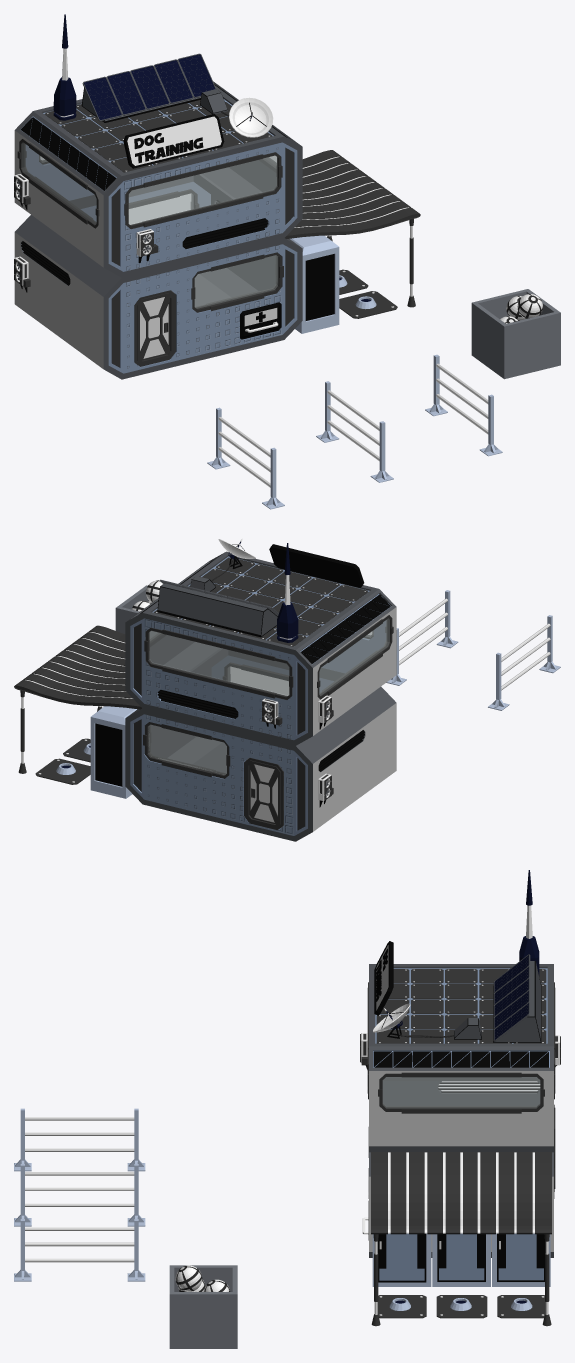
Rendered from Training_level_2.fbx.
3 views of the same model, one above another, from view 1: azimuth 30°, elevation 25°; view 2: azimuth 150°, elevation 25°; view 3: azimuth 270°, elevation 25° (orthographic). The views are drawn at different scales.
Parts seen in each view (by area): view 1: Training level 2.005, Training level 2.011, Training level 2.010, Training level 2.012, Training level 2.013; view 2: Training level 2.005, Training level 2.017, Training level 2.016, Training level 2.012, Training level 2.013; view 3: Training level 2.005, Training level 2.014.
Boxes of the visible parts, bbox=[...] form: Training level 2.005: bbox=[14, 14, 560, 509]; Training level 2.011: bbox=[123, 244, 282, 373]; Training level 2.010: bbox=[123, 142, 282, 271]; Training level 2.012: bbox=[14, 232, 103, 368]; Training level 2.013: bbox=[14, 130, 103, 267]; Training level 2.005: bbox=[14, 538, 560, 841]; Training level 2.017: bbox=[144, 714, 293, 835]; Training level 2.016: bbox=[144, 618, 293, 740]; Training level 2.012: bbox=[313, 703, 396, 831]; Training level 2.013: bbox=[313, 607, 396, 735]; Training level 2.005: bbox=[14, 870, 560, 1348]; Training level 2.014: bbox=[369, 1071, 553, 1146].
Bounding box in the file's own units: 536 × 423 × 663.
